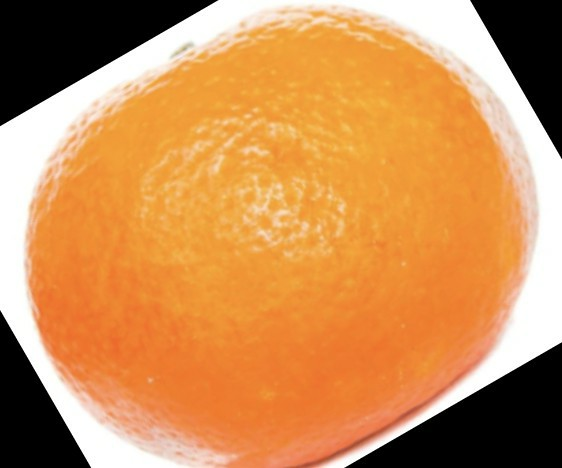fresh_orange: (28, 7, 536, 468)
